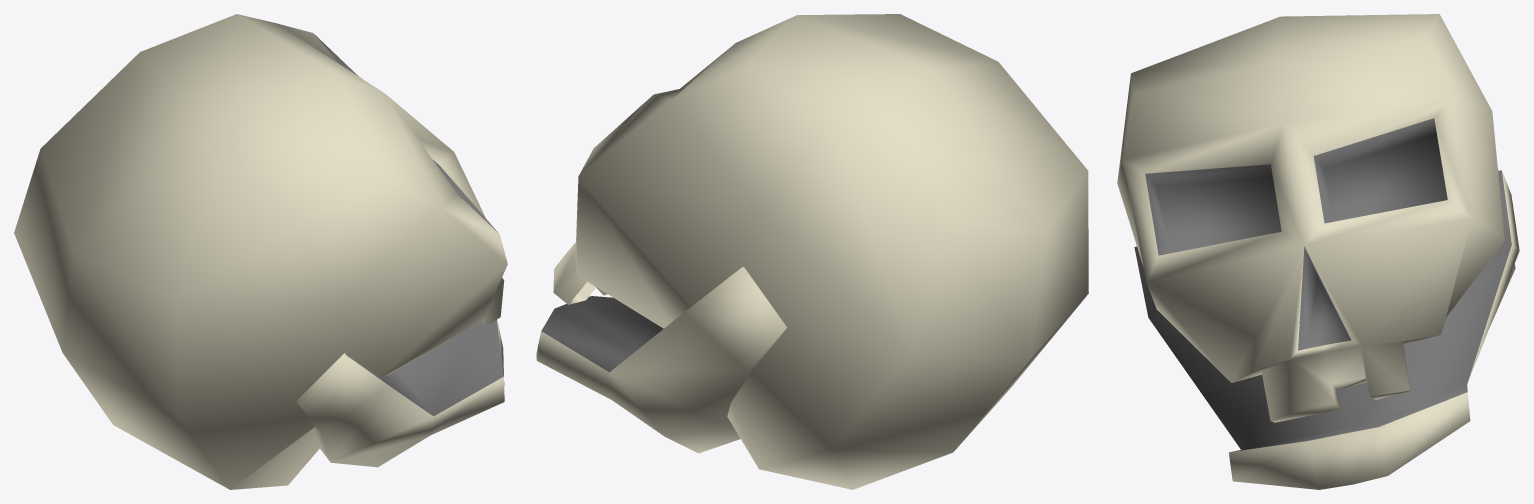
File: skull.glb
3 views of the same model, side by side, from view 1: azimuth 30°, elevation 25°; view 2: azimuth 150°, elevation 25°; view 3: azimuth 270°, elevation 25° (orthographic). The views are drawn at different scales.
Visible parts, largest first — view 1: Cube; view 2: Cube; view 3: Cube.
Part boxes in pixels (x1=…): Cube: x1=14, y1=14, x2=507, y2=489; Cube: x1=536, y1=14, x2=1088, y2=489; Cube: x1=1117, y1=14, x2=1519, y2=489.
Size of the model in its own units: 0.4249 by 0.3764 by 0.3379.
